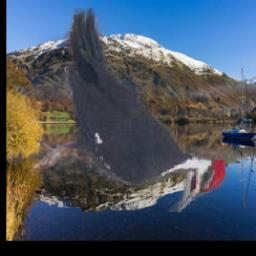Woodpecker: (29, 9, 231, 213)
